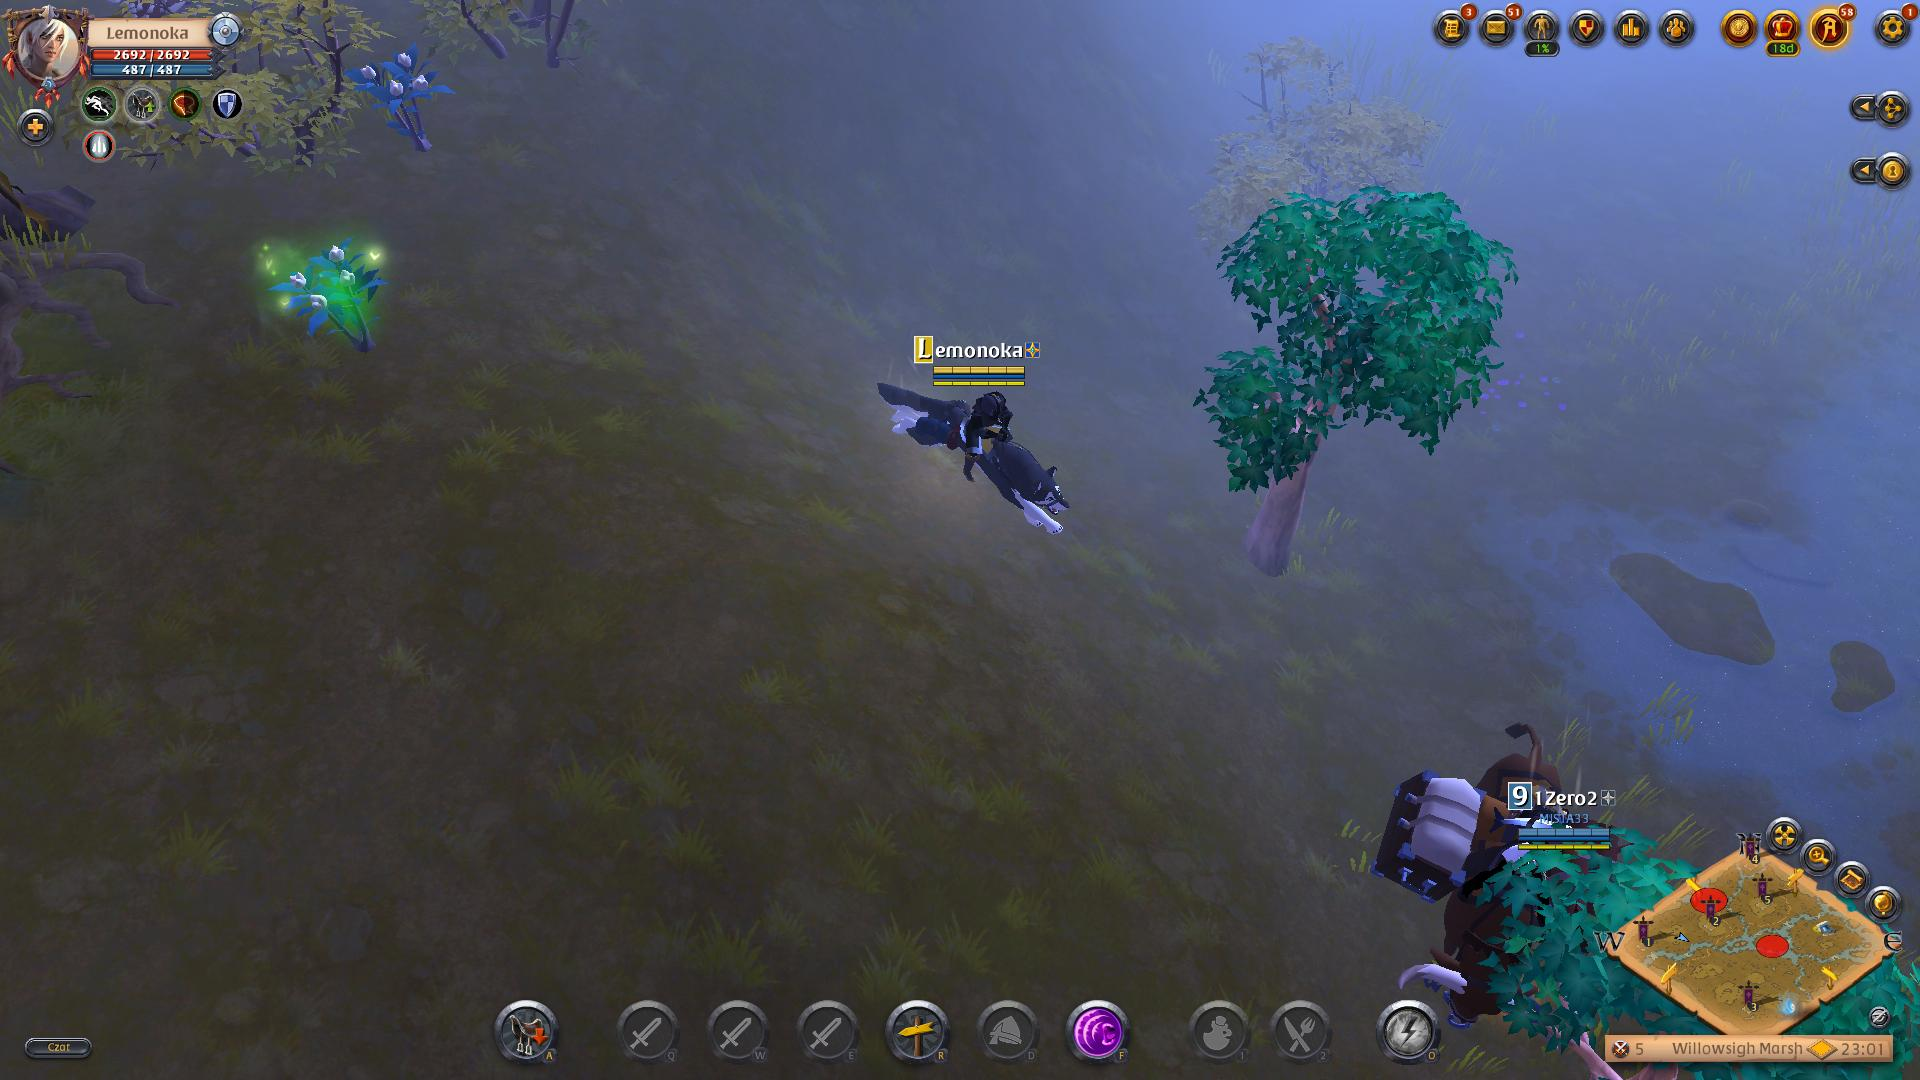fiber tier 4: (270, 240, 397, 349), (348, 38, 454, 153)
wood tier 3: (1199, 177, 1515, 505)
